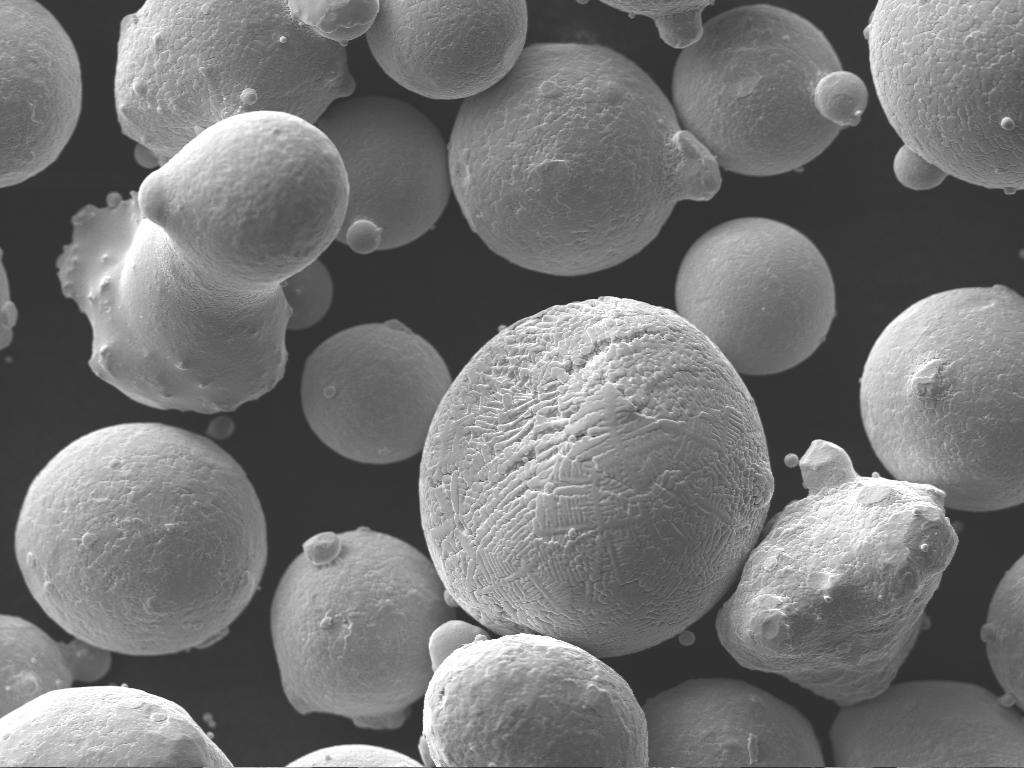Powder: (420, 296, 774, 658), (58, 112, 348, 411), (716, 440, 958, 706), (448, 44, 722, 276), (14, 424, 266, 656), (114, 1, 380, 160), (270, 526, 456, 729), (860, 286, 1024, 511), (672, 6, 868, 176), (420, 620, 648, 766), (864, 0, 1024, 193), (676, 218, 836, 373), (302, 320, 452, 463), (318, 96, 450, 254), (0, 686, 232, 766), (830, 680, 1024, 766), (366, 0, 528, 99), (644, 678, 824, 766), (0, 0, 82, 187), (1, 614, 112, 717), (982, 554, 1024, 709), (602, 0, 713, 47), (282, 260, 334, 330), (288, 744, 422, 767), (0, 250, 18, 349), (206, 414, 236, 440), (134, 144, 158, 168), (678, 630, 696, 646), (784, 452, 800, 467)
